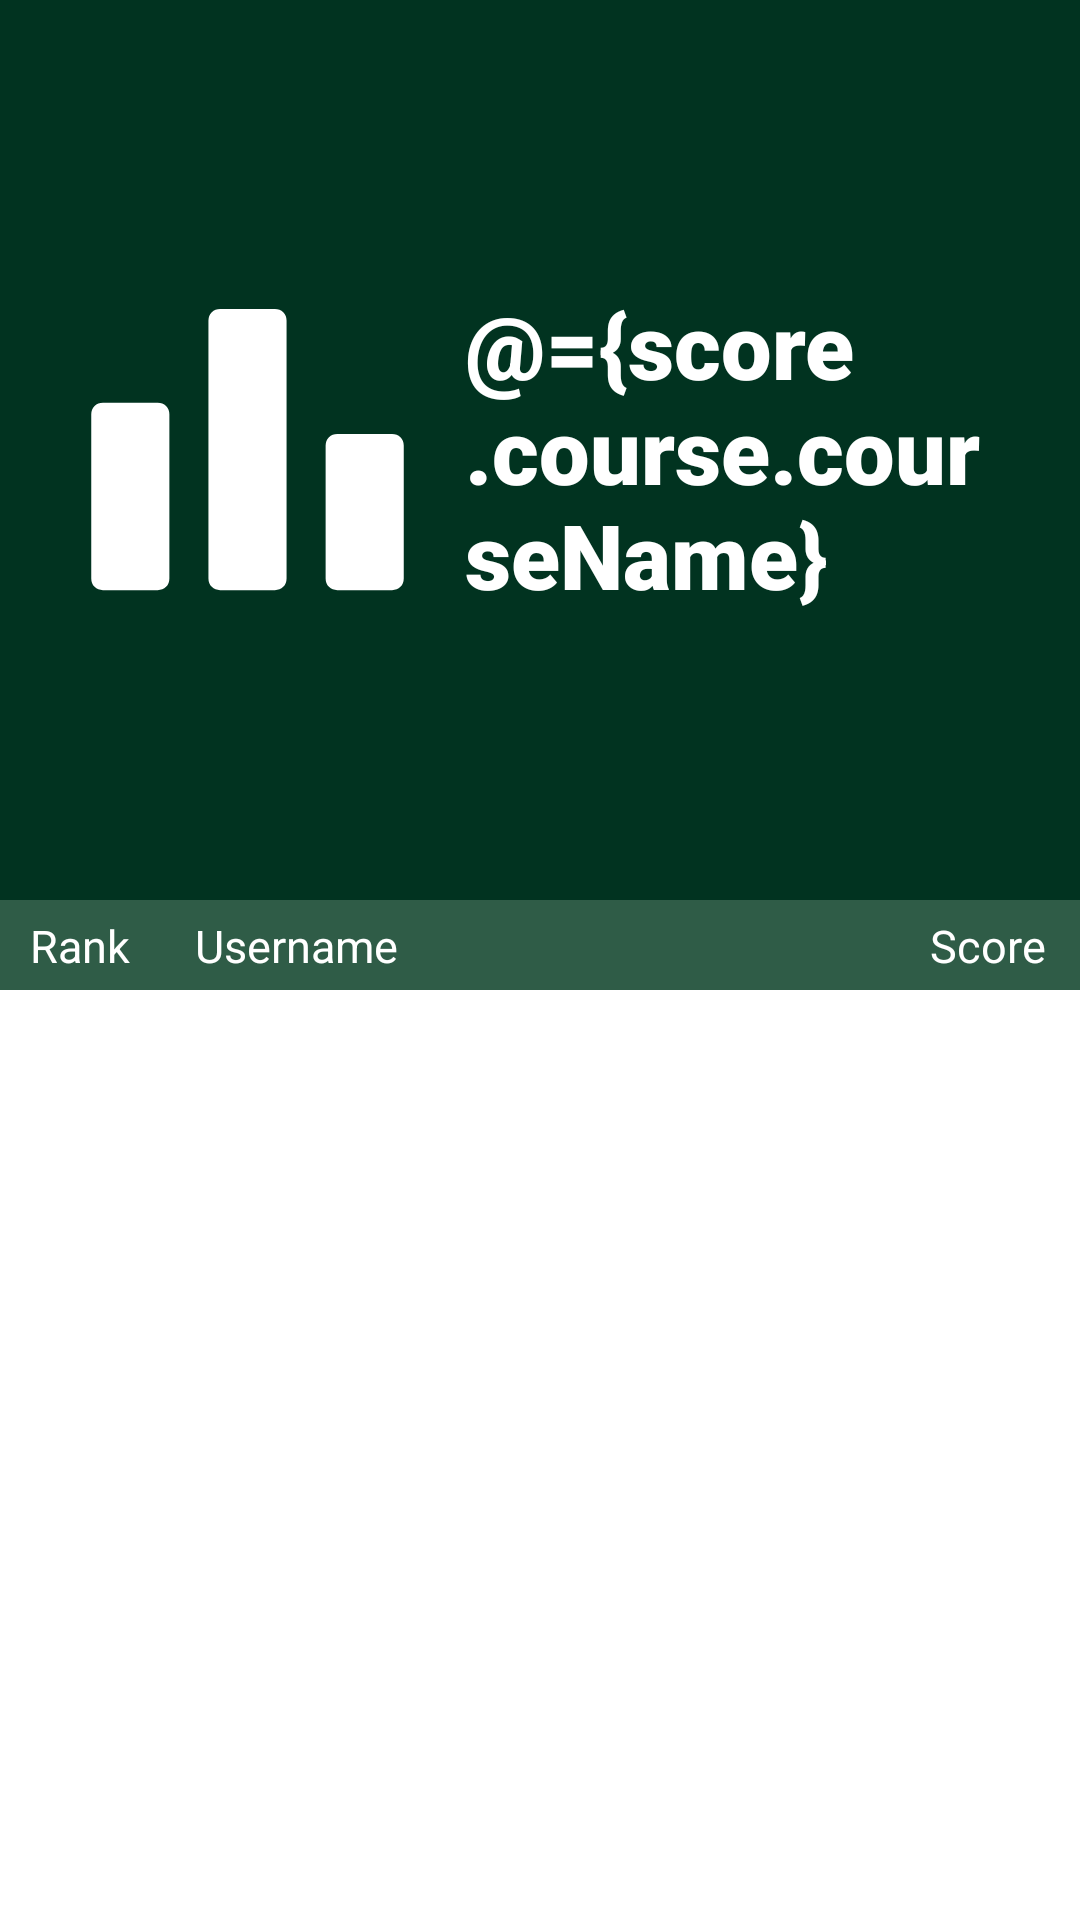

Screen size 1080×1920. Icon name, then its box in pixels as (x1, y1, x2, y2):
leaderboard: (91, 309, 404, 591)
